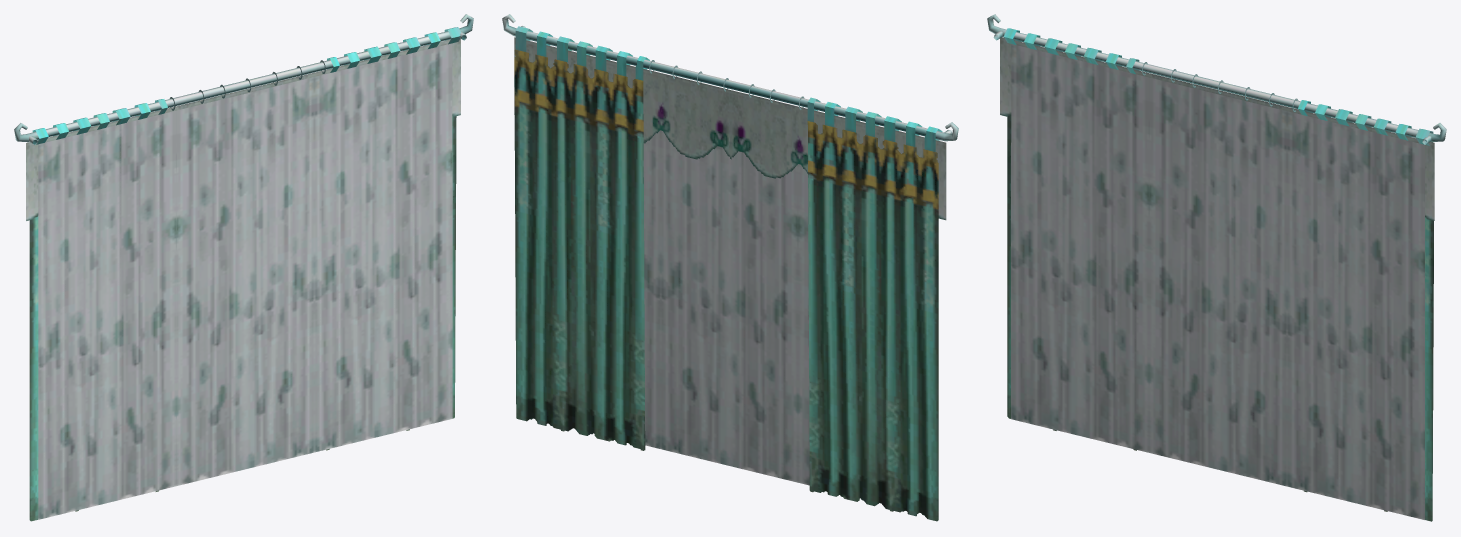
The model's file is furni_0200530_02.FBX.
3 renders of one model, left to right at view 1: azimuth 30°, elevation 25°; view 2: azimuth 150°, elevation 25°; view 3: azimuth 330°, elevation 25°, orthographic.
Parts seen in each view (by area): view 1: furni_0200530_02; view 2: furni_0200530_02; view 3: furni_0200530_02.
Part boxes in pixels (<box>): furni_0200530_02: <box>14,14,473,521</box>; furni_0200530_02: <box>502,14,958,521</box>; furni_0200530_02: <box>987,14,1446,521</box>.
Size of the model in its own units: 328 by 277 by 11.25.
2 materials, 2 textured.
